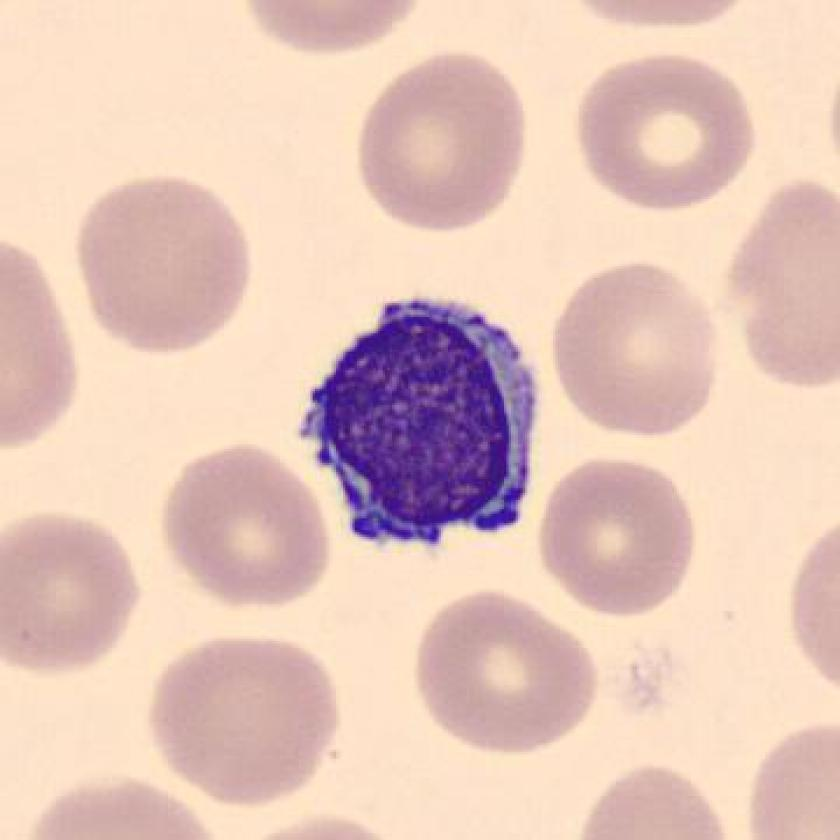lymphocyte: (286, 281, 556, 566)
